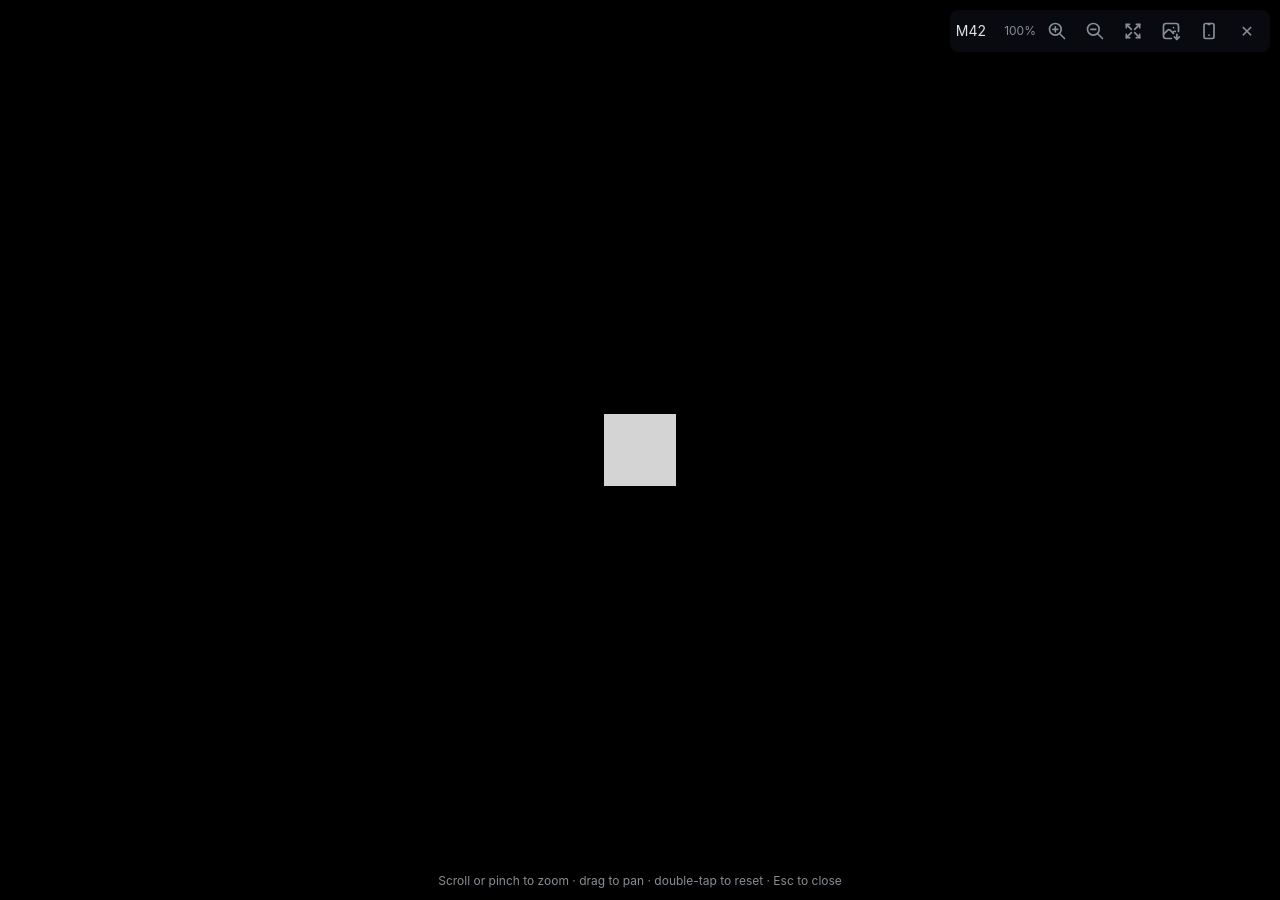
it: ImageLightbox › keeps the plain wording for an ordinary canvas, and when it isn't known
Click the button named "Download picture": (1171, 31) [1154, 14, 1188, 48]
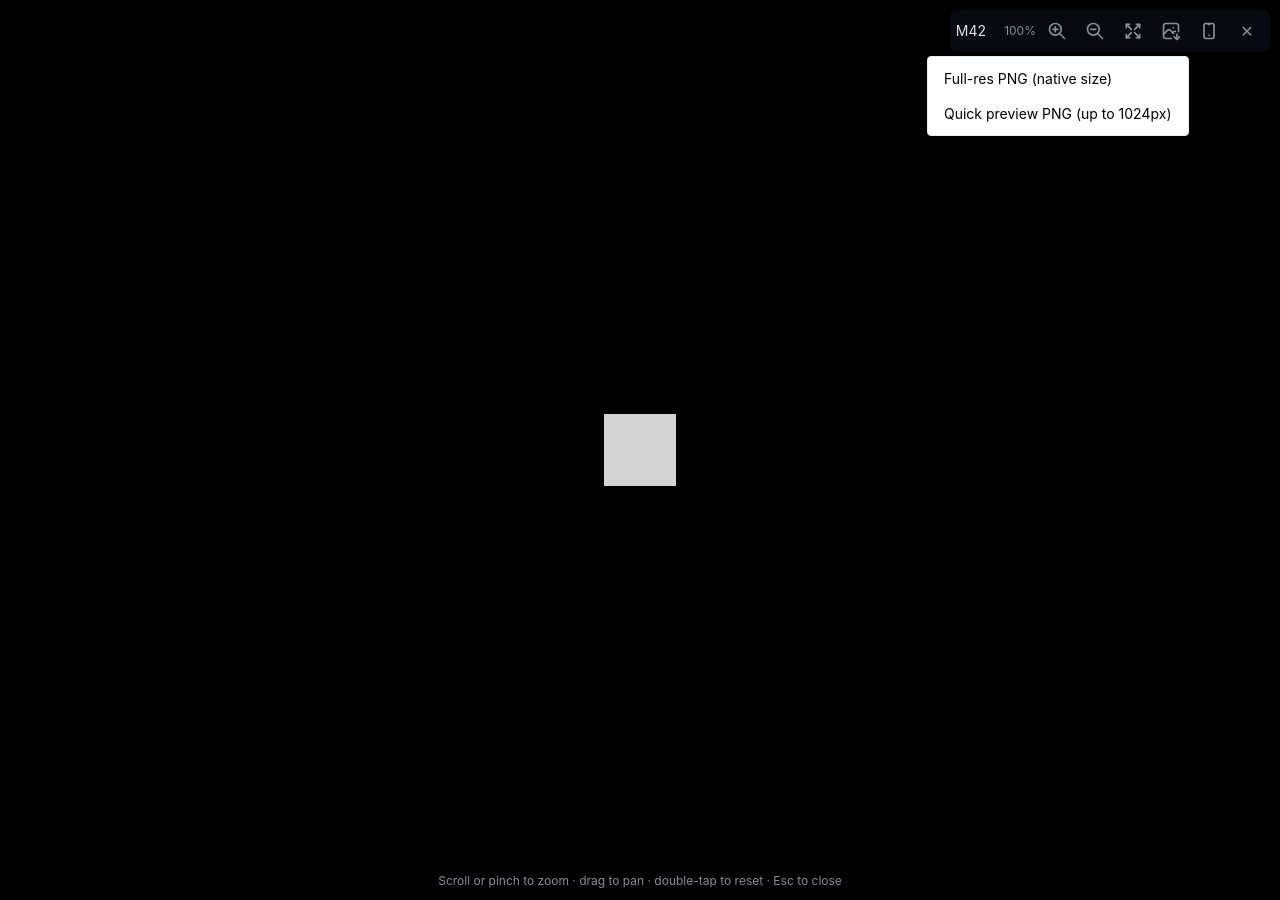
Now the text "Full-res PNG (native size)" is shown, box [944, 70, 1112, 87]
